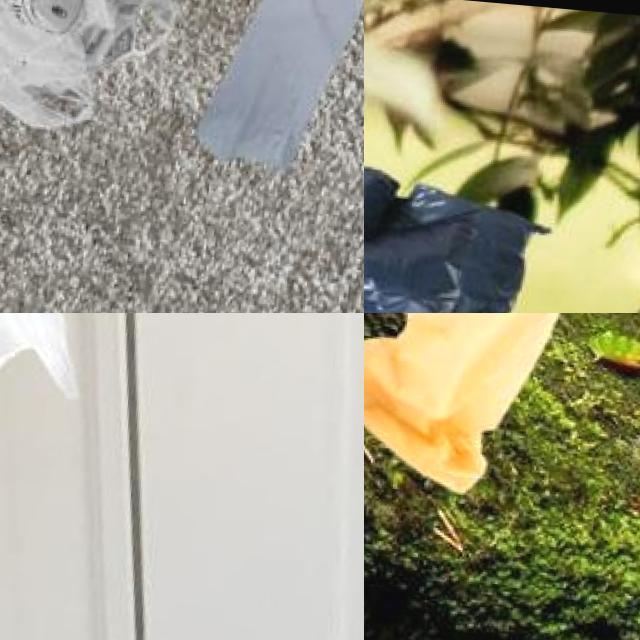waste: (364, 313, 619, 498), (194, 0, 364, 169), (0, 0, 176, 127), (0, 313, 101, 441), (364, 197, 457, 313), (364, 143, 396, 276)
